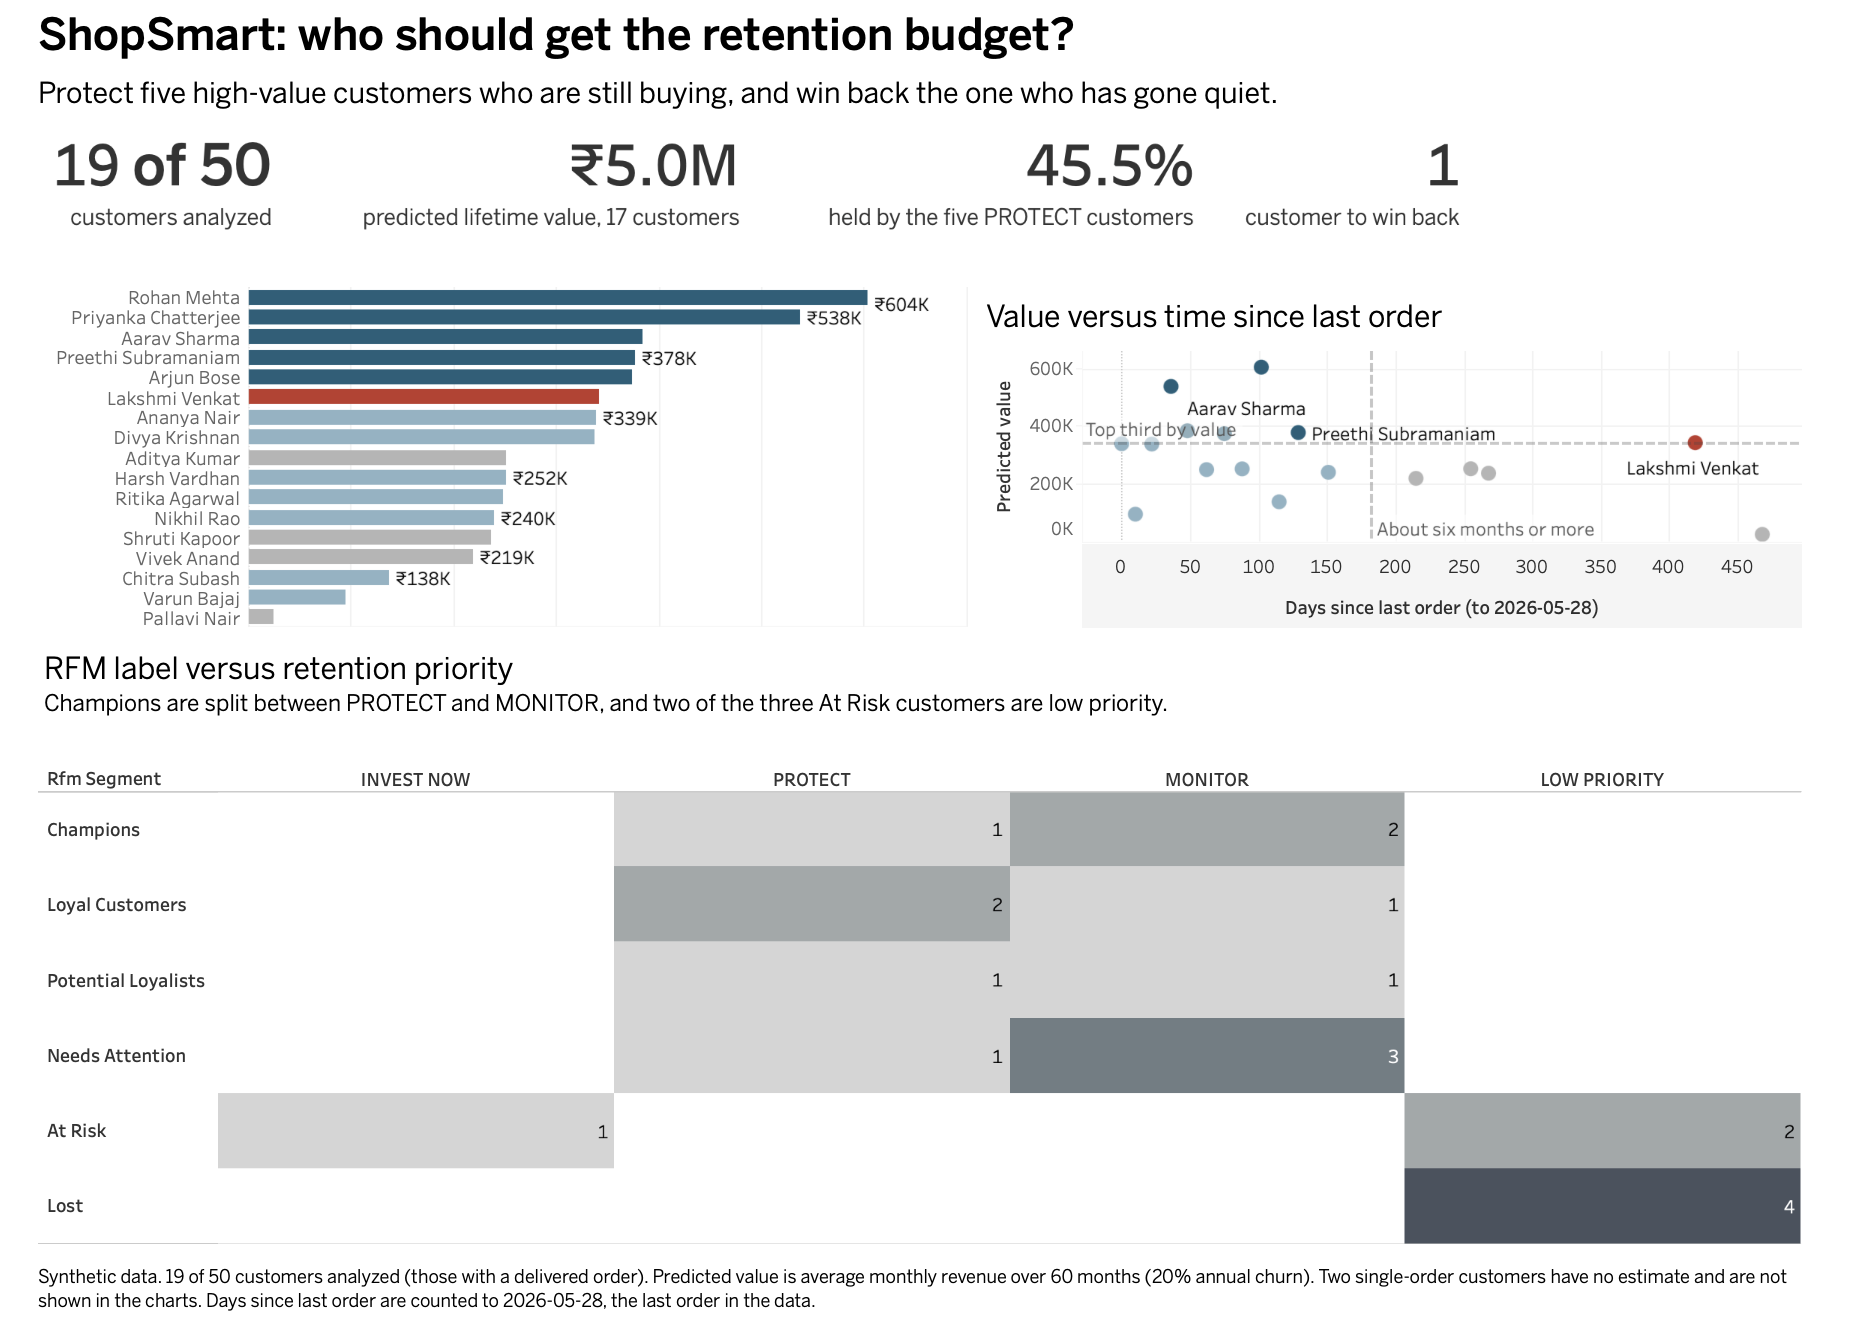

What the dashboard file says about the page in this screenshot:
{"tool":"tableau","page":{"name":"Dashboard 1","canvas":[1200,900],"ordinal":0},"visuals":[{"type":"title","box":[8,8,1184,43]},{"type":"text","box":[8,51,1184,32]},{"type":"worksheet","title":"1.1a Customers","mark":"Automatic","box":[8,83,192,109]},{"type":"worksheet","title":"1.1b Value","mark":"Automatic","box":[200,83,303,109]},{"type":"worksheet","title":"1.1c PROTECT share","mark":"Automatic","box":[503,83,297,109]},{"type":"worksheet","title":"1.1d INVEST NOW","mark":"Automatic","box":[800,83,270,109]},{"type":"worksheet","title":"1.2 Value by customer","mark":"Automatic","rows":["full_name"],"cols":["predictive_clv"],"box":[8,192,629,235]},{"type":"worksheet","title":"1.3 Value vs recency","mark":"Circle","rows":["predictive_clv"],"cols":["recency_days"],"box":[637,192,555,235]},{"type":"worksheet","title":"1.4 RFM vs priority","mark":"Square","rows":["rfm_segment"],"cols":["retention_priority"],"box":[8,427,1184,413]},{"type":"text","box":[8,840,1184,52]}]}

Visuals, with their boxes on the page's 1200x900 design canvas (x1, y1, x2, y2). These are canvas units, not pixel positions in the 1850x1338 screenshot, which may show the page scaled, cropped or inside an application window:
title: select_region(8, 8, 1192, 51)
text: select_region(8, 51, 1192, 83)
"1.1a Customers" worksheet: select_region(8, 83, 200, 192)
"1.1b Value" worksheet: select_region(200, 83, 503, 192)
"1.1c PROTECT share" worksheet: select_region(503, 83, 800, 192)
"1.1d INVEST NOW" worksheet: select_region(800, 83, 1070, 192)
"1.2 Value by customer" worksheet: select_region(8, 192, 637, 427)
"1.3 Value vs recency" worksheet (Circle marks): select_region(637, 192, 1192, 427)
"1.4 RFM vs priority" worksheet (Square marks): select_region(8, 427, 1192, 840)
text: select_region(8, 840, 1192, 892)
